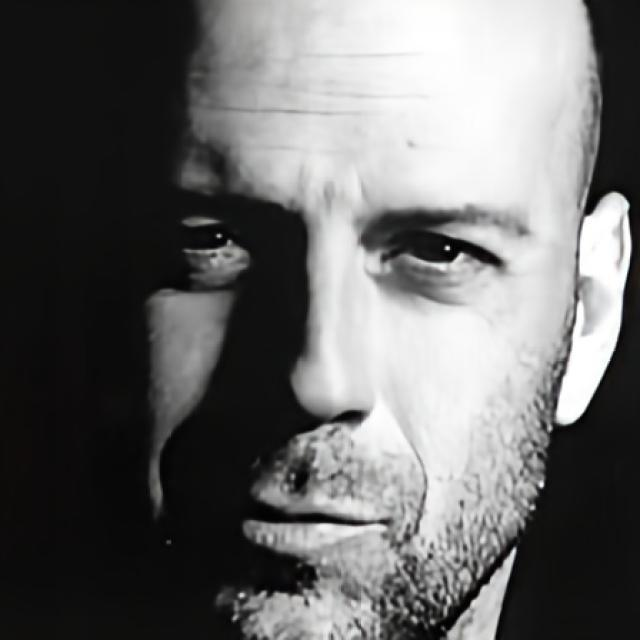content: (118, 0, 602, 640)
